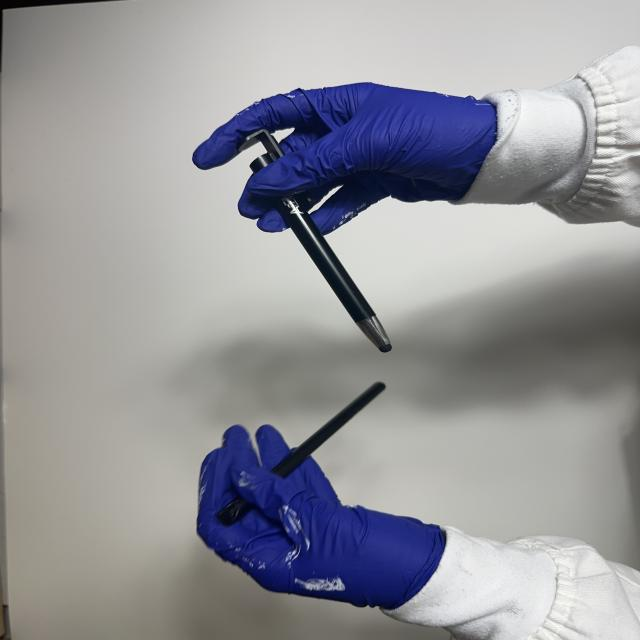gloves_contaminated: (193, 83, 496, 234), (198, 425, 446, 609)
